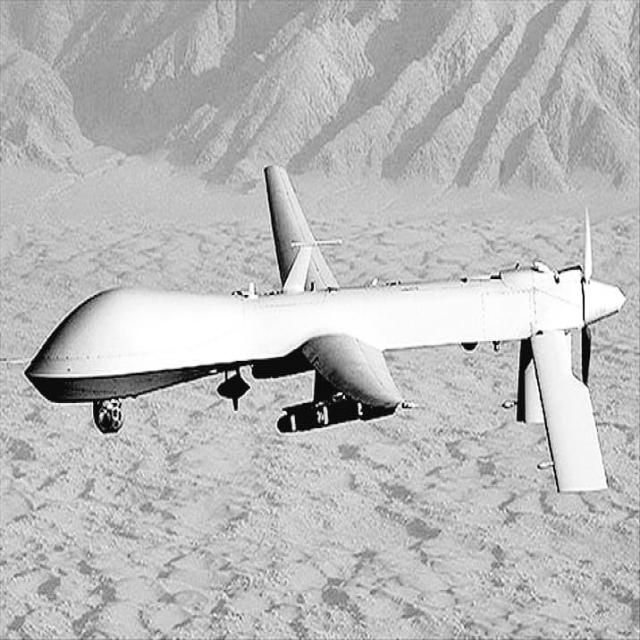iha: (3, 166, 626, 491)
